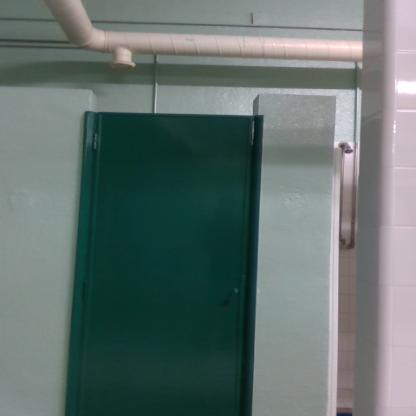closed: (52, 108, 277, 416)
